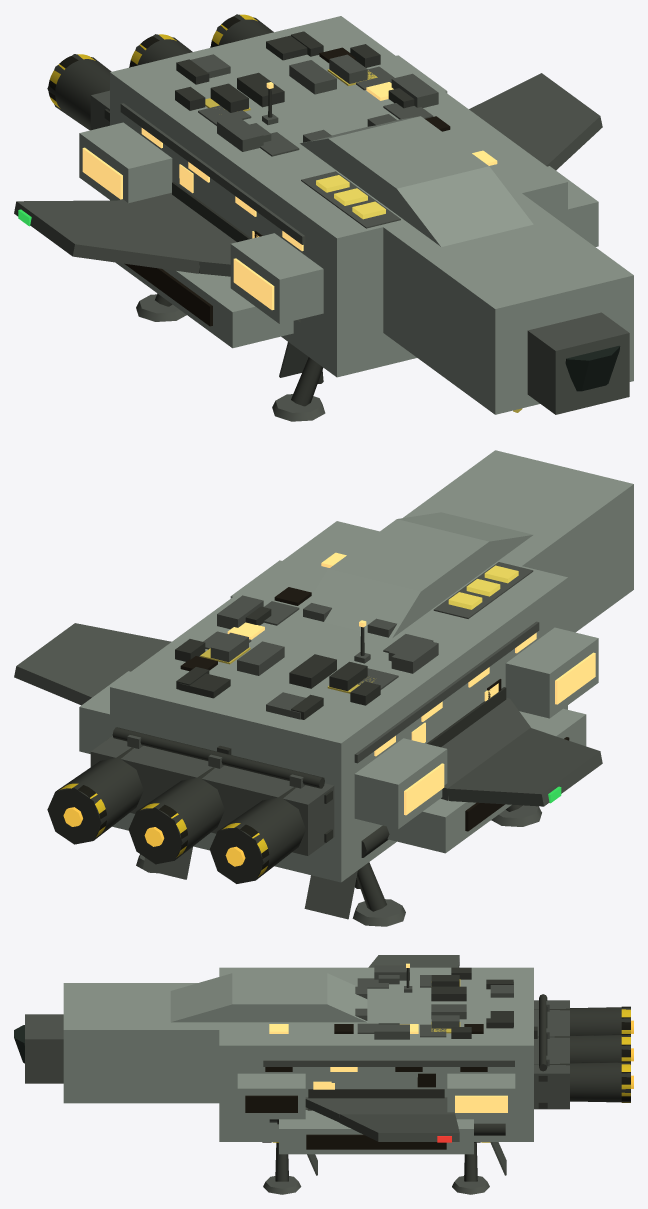
Rendered from liner-s.glb.
3 views of the same model, one above another, from view 1: azimuth 30°, elevation 25°; view 2: azimuth 150°, elevation 25°; view 3: azimuth 270°, elevation 25° (orthographic). The views are drawn at different scales.
Visible parts, largest first — view 1: hullMain, hullNose, canopyFairing, wingOuterLeft, hullNoseTip, wingOuterRight, passengerPod1L, passengerPod0L, noseRelocatedBayL, engineHousing (×3), wingInnerLeft, accentStripeL (+18 smaller); view 2: hullMain, hullNose, canopyFairing, engineHousing (×3), engineBayExtension, wingOuterLeft, wingOuterRight, passengerPod0L, passengerPod1L, noseRelocatedBayL, wingInnerLeft, gearBayDoor (×2) (+17 smaller); view 3: hullMain, hullNose, canopyFairing, engineHousing (×3), noseRelocatedBayR, engineBayExtension, wingOuterRight, hullNoseTip, wingInnerRight, passengerPod1R, passengerPod0R, accentStripeR (+15 smaller).
Part boxes in pixels (x1,y1,x2,y2): hullMain: [110, 16, 567, 377]; hullNose: [381, 187, 633, 414]; canopyFairing: [300, 116, 533, 246]; wingOuterLeft: [14, 200, 199, 273]; hullNoseTip: [527, 312, 629, 414]; wingOuterRight: [469, 73, 602, 170]; passengerPod1L: [230, 233, 323, 323]; passengerPod0L: [79, 122, 172, 203]; noseRelocatedBayL: [115, 262, 293, 348]; engineHousing (×3): [47, 14, 273, 130]; wingInnerLeft: [117, 192, 236, 276]; accentStripeL: [120, 103, 305, 244]; hullMain: [110, 521, 567, 882]; hullNose: [403, 450, 633, 632]; canopyFairing: [300, 512, 533, 638]; engineHousing (×3): [47, 747, 305, 883]; engineBayExtension: [90, 736, 334, 855]; wingOuterLeft: [447, 728, 602, 806]; wingOuterRight: [14, 623, 171, 705]; passengerPod0L: [354, 738, 447, 829]; passengerPod1L: [505, 627, 598, 718]; noseRelocatedBayL: [387, 708, 586, 853]; wingInnerLeft: [441, 698, 530, 800]; gearBayDoor (×2): [143, 847, 357, 919]; hullMain: [219, 967, 533, 1141]; hullNose: [63, 983, 230, 1103]; canopyFairing: [170, 973, 367, 1022]; engineHousing (×3): [534, 1007, 630, 1102]; noseRelocatedBayR: [279, 1110, 473, 1154]; engineBayExtension: [534, 1000, 569, 1109]; wingOuterRight: [339, 1114, 459, 1141]; hullNoseTip: [25, 1014, 63, 1083]; wingInnerRight: [305, 1097, 454, 1122]; passengerPod1R: [237, 1073, 305, 1119]; passengerPod0R: [447, 1073, 515, 1119]; accentStripeR: [263, 1060, 514, 1066].
Bounding box in the file's own units: 4.61 × 2.03 × 6.7.
